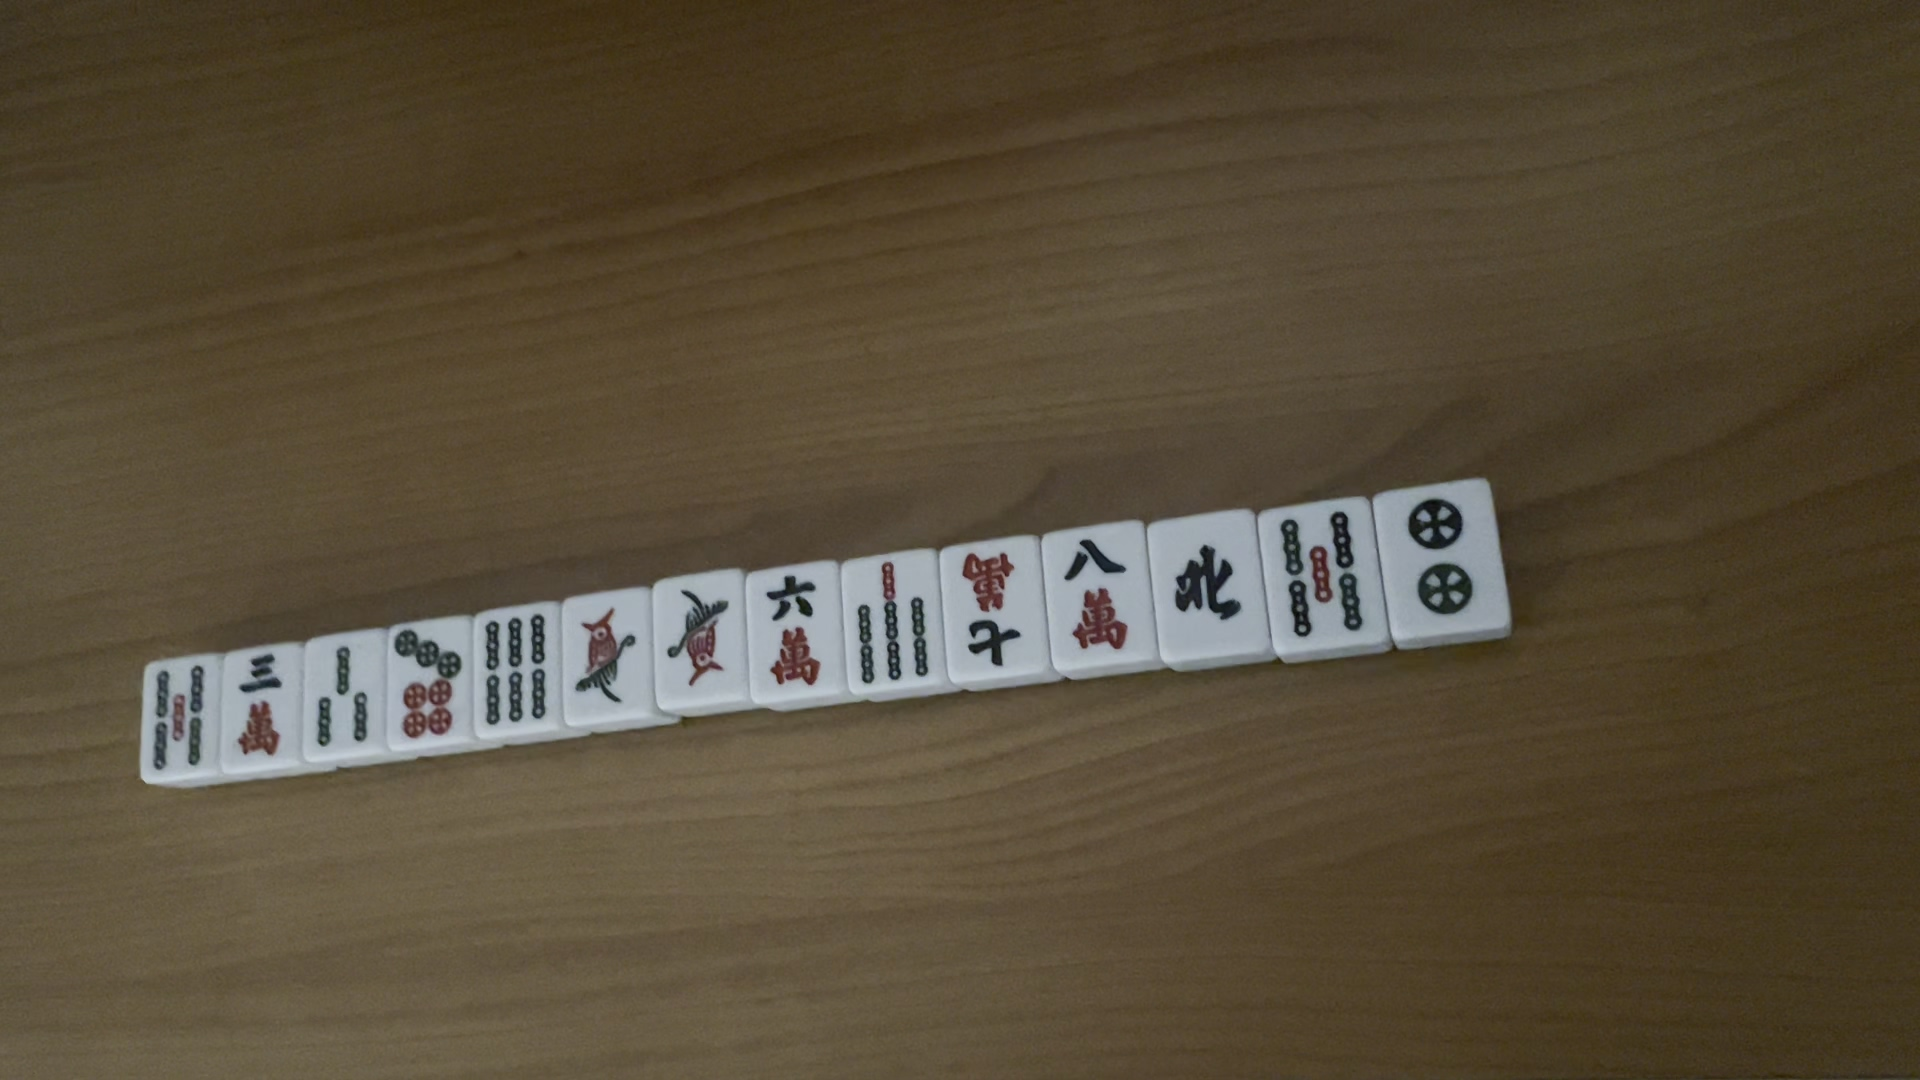b-1: (657, 585, 733, 691), (564, 607, 641, 705)
b-3: (313, 644, 376, 750)
b-5: (1276, 506, 1367, 642), (142, 662, 208, 771)
b-6: (477, 612, 549, 724)
b-7: (851, 556, 935, 688)
c-3: (232, 650, 287, 757)
c-6: (752, 570, 831, 688)
c-7: (955, 549, 1031, 669)
c-8: (1062, 527, 1133, 659)
d-2: (1400, 489, 1484, 625)
d-7: (390, 628, 462, 737)
honors-north: (1164, 537, 1245, 633)
